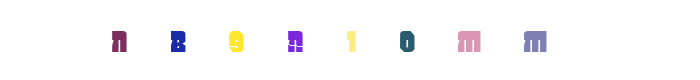1: (288, 0, 368, 80)
9: (247, 0, 327, 80)
B: (196, 0, 276, 80)
M: (398, 0, 478, 80), (467, 0, 547, 80)
N: (79, 0, 159, 80), (255, 0, 335, 80)
O: (310, 0, 390, 80)
